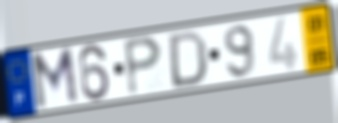4: (267, 15, 300, 73)
6: (77, 43, 111, 104)
9: (222, 23, 258, 78)
D: (168, 29, 209, 91)
M: (28, 44, 81, 113)
P: (121, 34, 165, 99)
